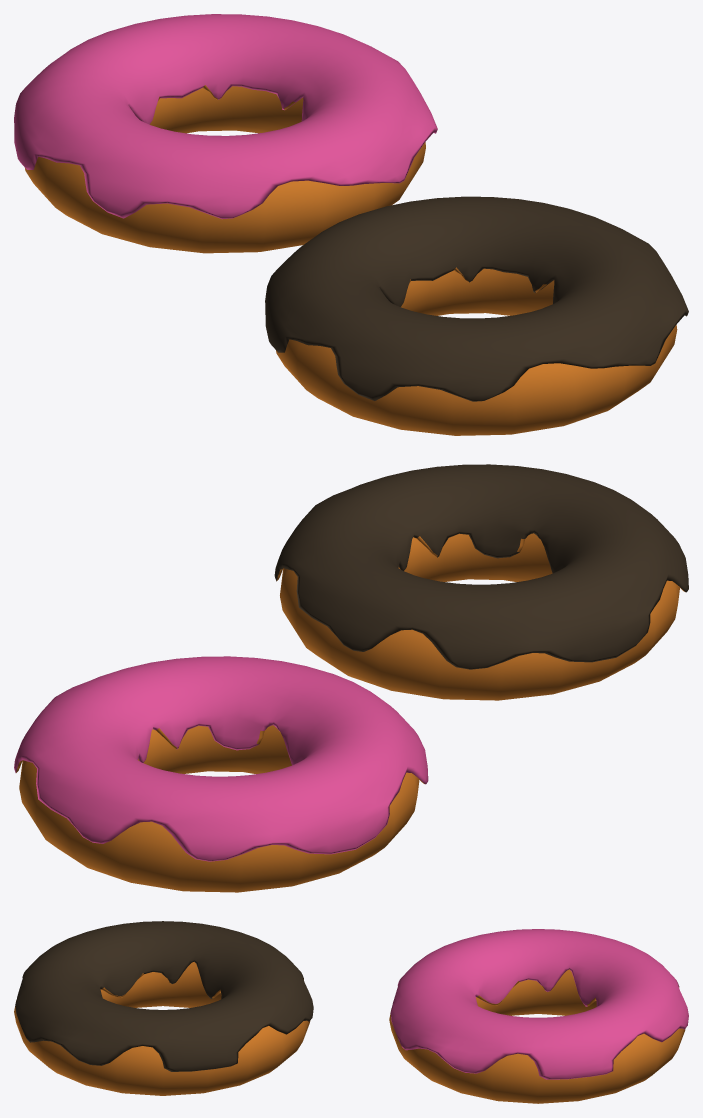
File: Donuts.fbx
The picture shows the model from 3 angles, top to bottom: view 1: azimuth 30°, elevation 25°; view 2: azimuth 150°, elevation 25°; view 3: azimuth 270°, elevation 25°; orthographic projection. The views are drawn at different scales.
Visible parts, largest first — view 1: donut_2, donut1; view 2: donut_2, donut1; view 3: donut_2, donut1.
Part boxes in pixels (<box>): donut_2: <box>265,196,688,435</box>; donut1: <box>14,14,437,253</box>; donut_2: <box>274,464,688,700</box>; donut1: <box>14,656,428,892</box>; donut_2: <box>14,921,313,1095</box>; donut1: <box>389,929,688,1103</box>.
Bounding box in the file's own units: 0.8862 × 0.2602 × 1.93.
Materials: 2 (2 with a texture image).
